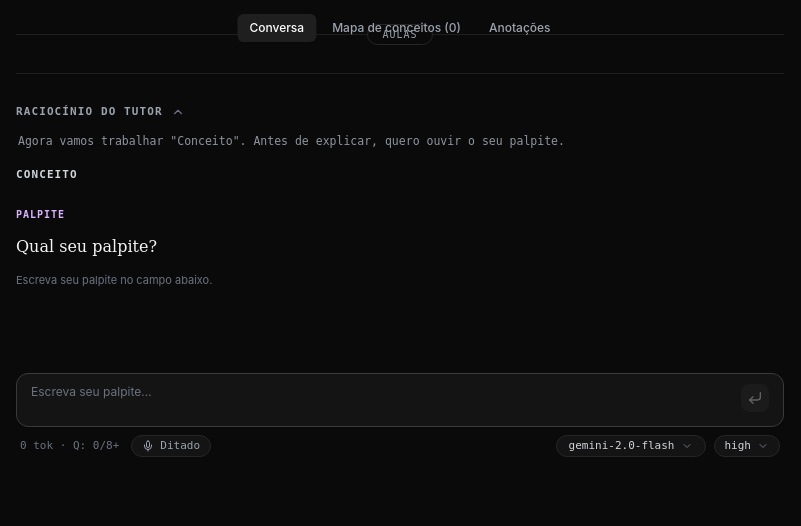
Test: SessionView failure recovery › U8: a failed prediction leaves no bubble behind and keeps the text
Expected: the text "Qual seu palpite?" is shown, [16,237,157,256]
Type "meu palpite" into the text box with placeholder "Escreva seu palpite…". click: point(382, 400)
box: [31,384,733,416]
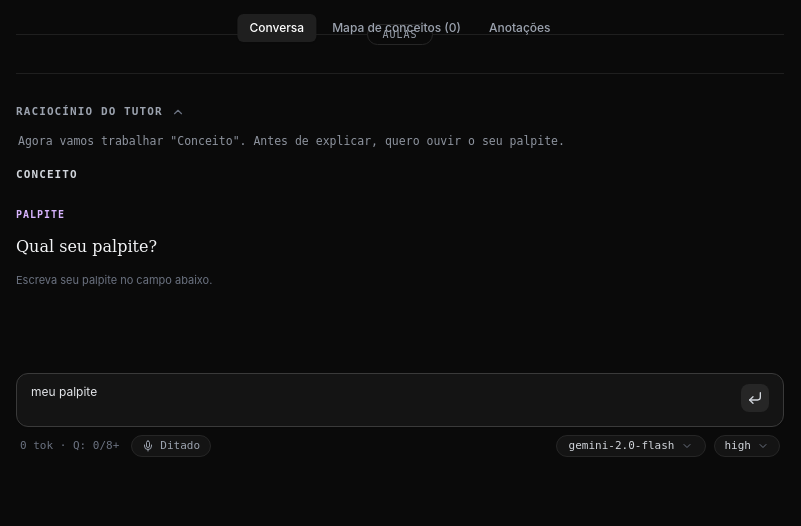
Click the button named "enviar". click: point(755, 398)
box: [741,384,769,412]
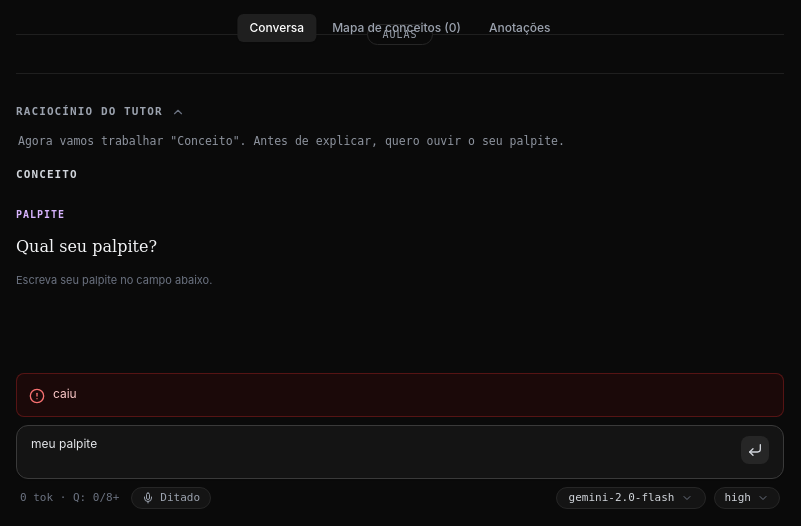
Expected: the text box holds "meu palpite", [31,436,733,468]
Expected: the message "caiu" is shown, [16,373,784,417]
